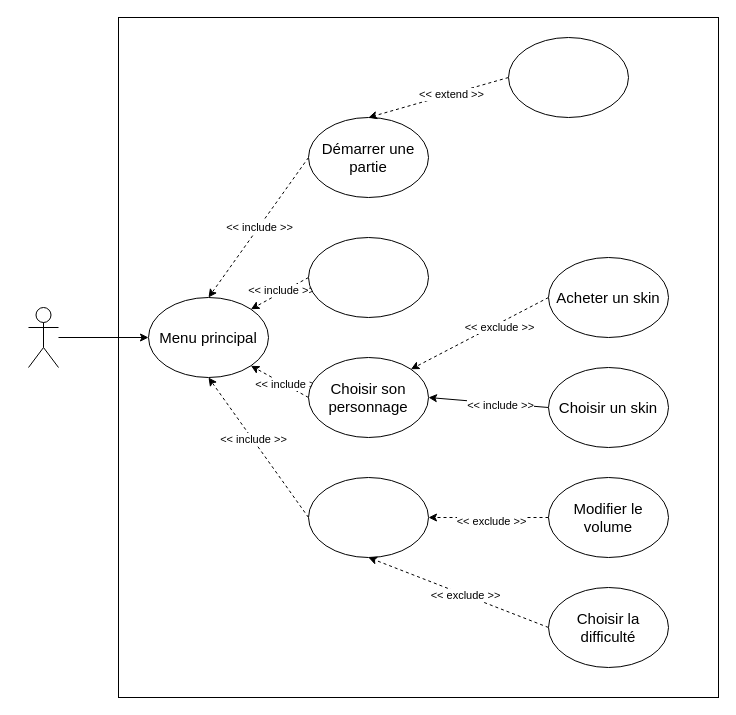
Some shapes in this 736 by 715 pixel diagram are drawn without their labels. The box of each missing label's shape, as (x1, y1, x2, y2) in pixels:
Accéder aux réglages: (308, 476, 428, 558)
Mettre en pause: (508, 36, 628, 118)
Utilisateur: (28, 306, 58, 368)
Voir le tableau des scores: (308, 236, 428, 318)
